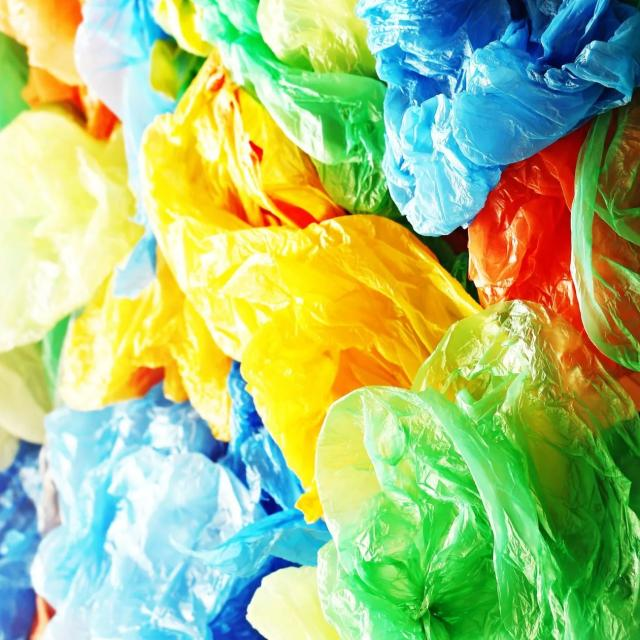Single-layer Plastic: (141, 52, 479, 519), (316, 301, 640, 640), (31, 372, 329, 639), (356, 0, 640, 235), (469, 124, 640, 409), (194, 0, 395, 216), (0, 106, 142, 351), (60, 253, 231, 441), (75, 0, 180, 298), (571, 91, 640, 371), (0, 0, 118, 140), (0, 316, 69, 469), (258, 0, 376, 78), (0, 441, 40, 639), (209, 558, 298, 640)
